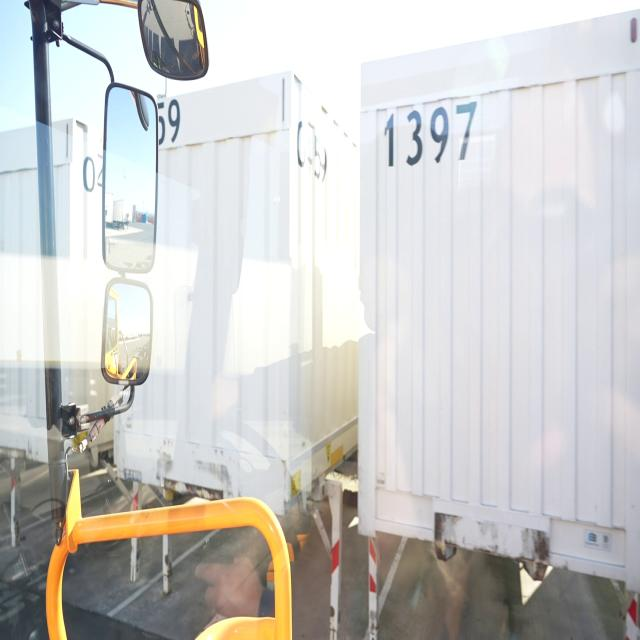Code: (378, 93, 478, 167)
